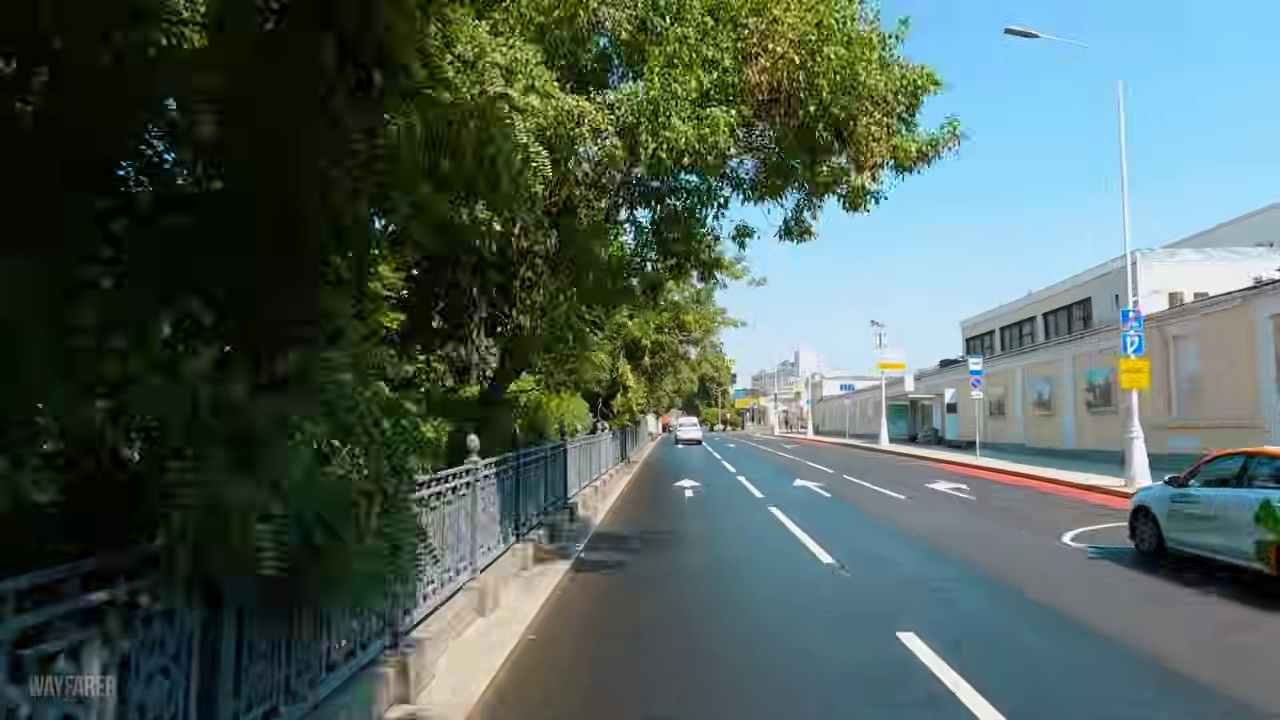apagada: (1002, 24, 1036, 45)
